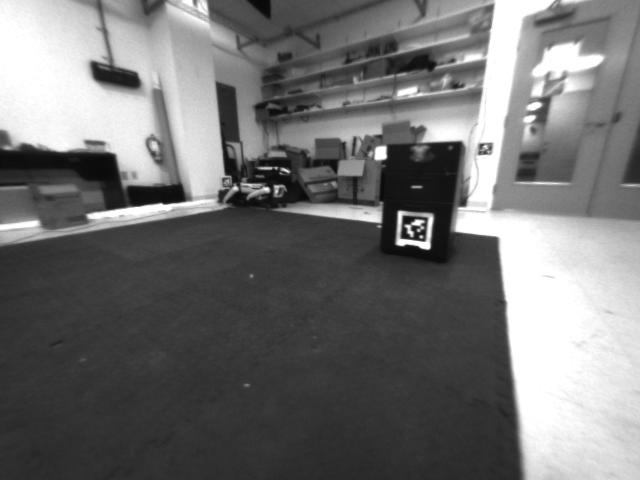door_handle: (574, 115, 607, 135)
drawer: (405, 142, 437, 170)
